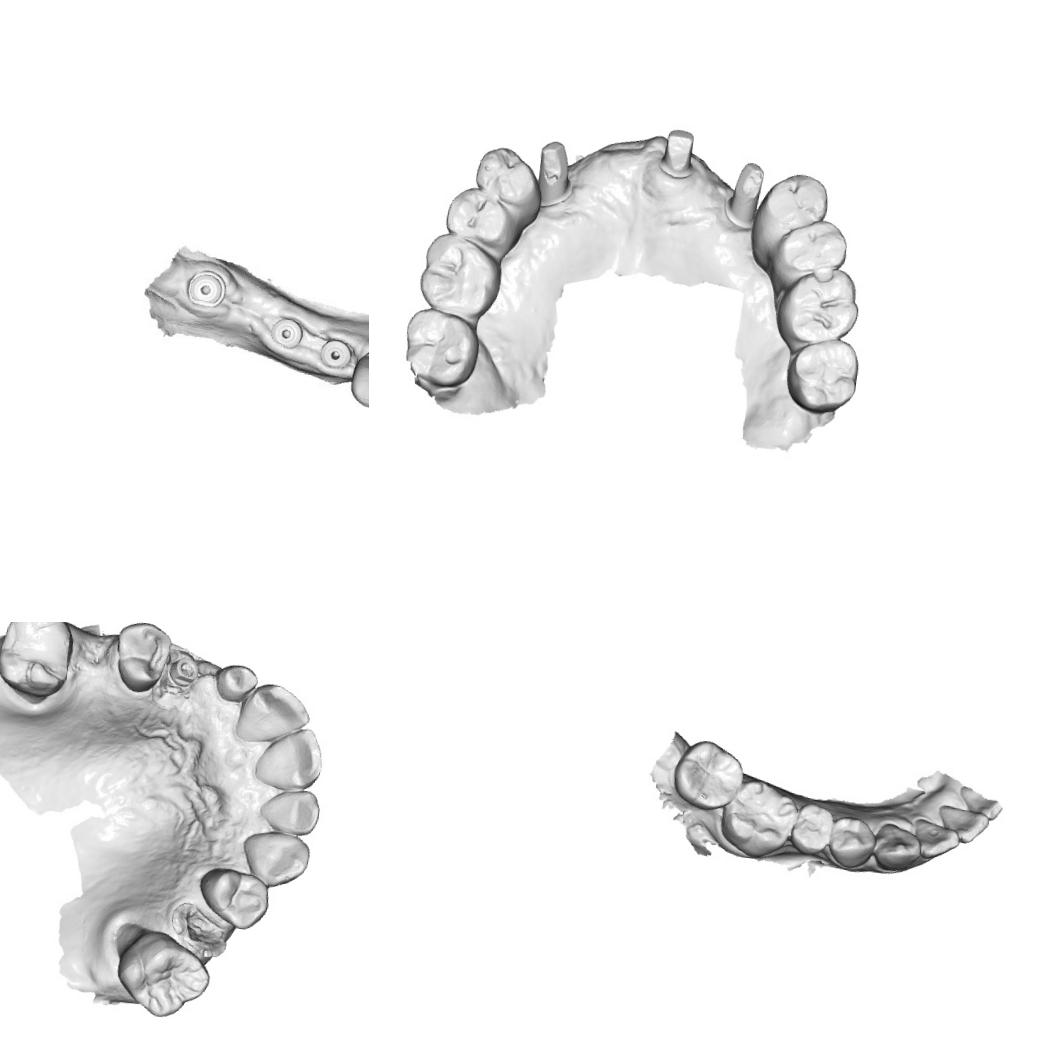abutment: (722, 153, 768, 231), (529, 136, 577, 207), (656, 124, 700, 182)
canine: (237, 825, 314, 892), (871, 819, 924, 875), (346, 348, 369, 413)
implant: (182, 266, 230, 310), (267, 312, 306, 352), (164, 653, 202, 693), (316, 336, 356, 373)
incisor: (230, 678, 316, 751), (252, 722, 328, 796), (255, 784, 322, 838), (932, 802, 992, 847), (909, 815, 962, 864), (212, 658, 261, 706), (954, 786, 1005, 821)
molar: (111, 925, 216, 1024), (414, 228, 510, 323), (773, 262, 864, 356), (398, 302, 484, 397), (714, 773, 800, 864), (780, 334, 862, 419), (668, 735, 749, 815), (0, 622, 76, 702)
premolar: (772, 211, 854, 282), (470, 141, 545, 218), (442, 184, 524, 254), (194, 863, 274, 934), (110, 622, 176, 697), (760, 168, 832, 236), (826, 812, 880, 872), (786, 800, 838, 859)
